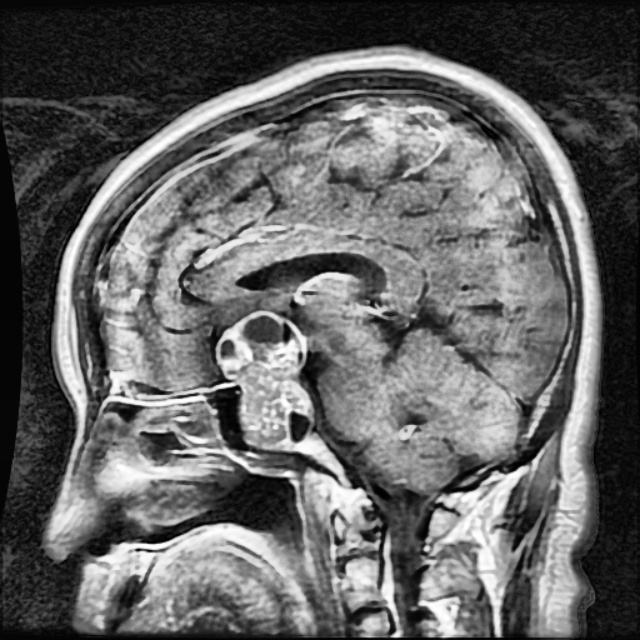Pituitary: (214, 309, 314, 452)
